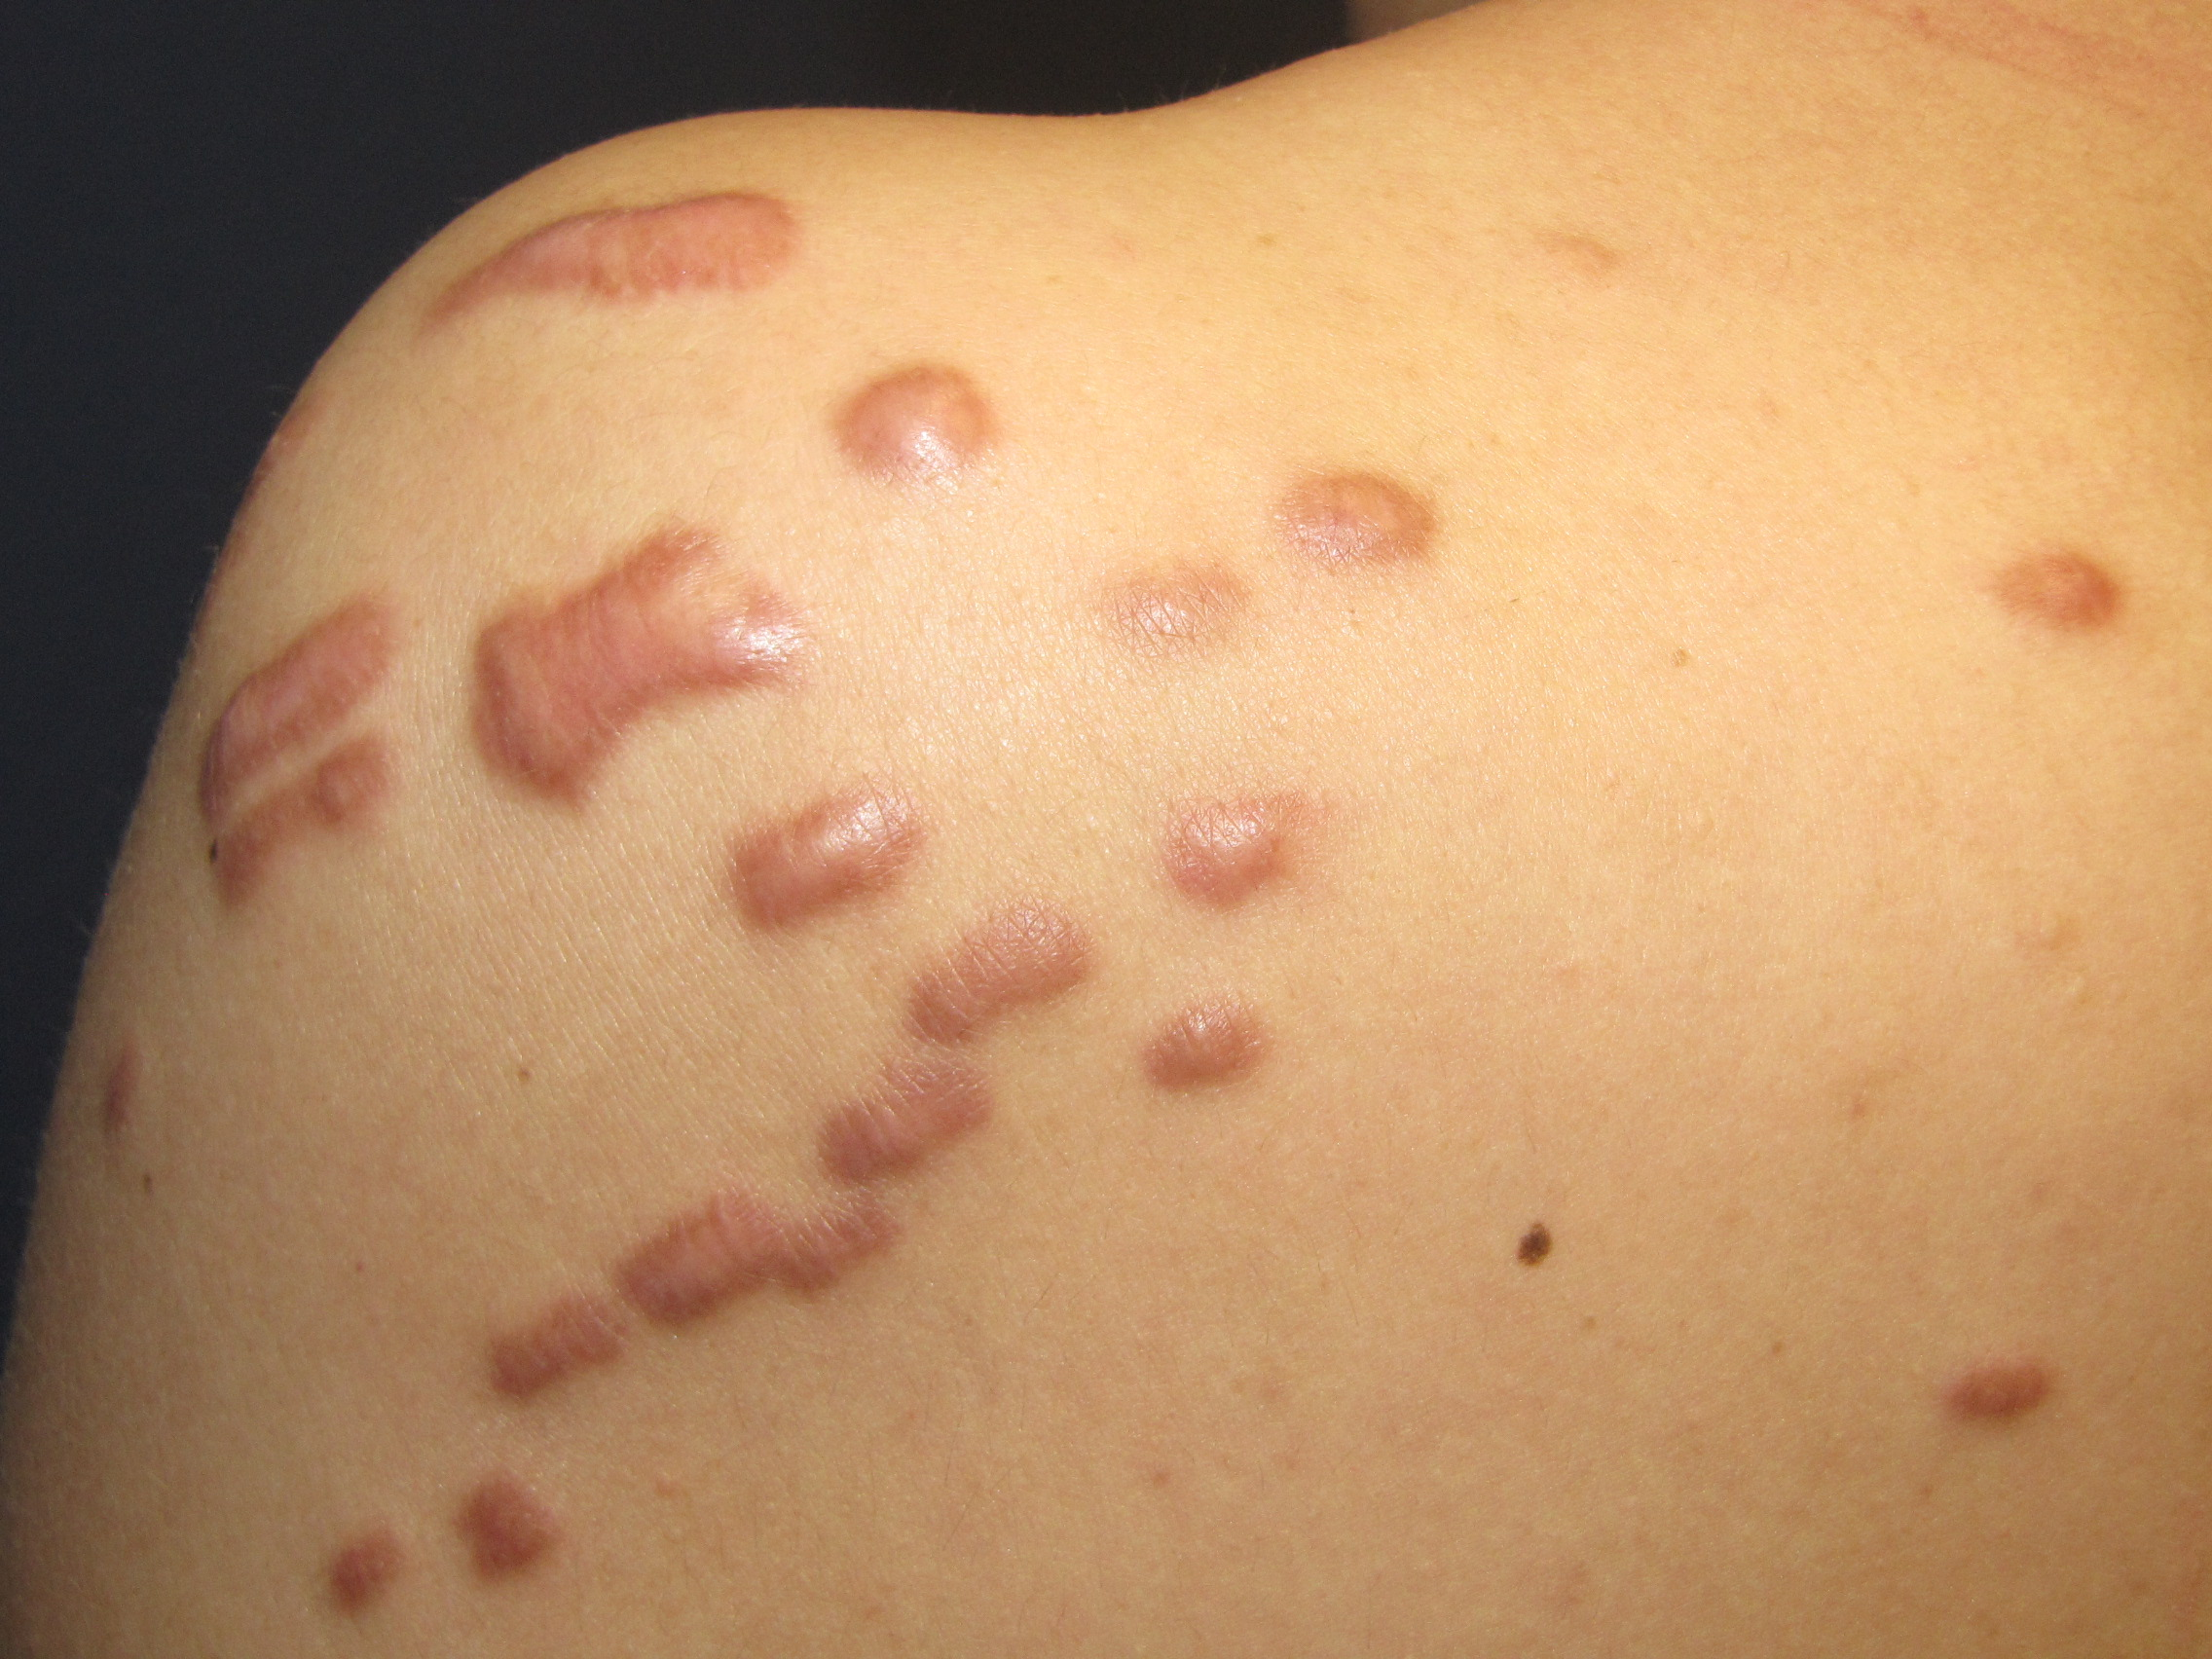Keloids: (242, 371, 1475, 1474), (444, 166, 841, 326)
